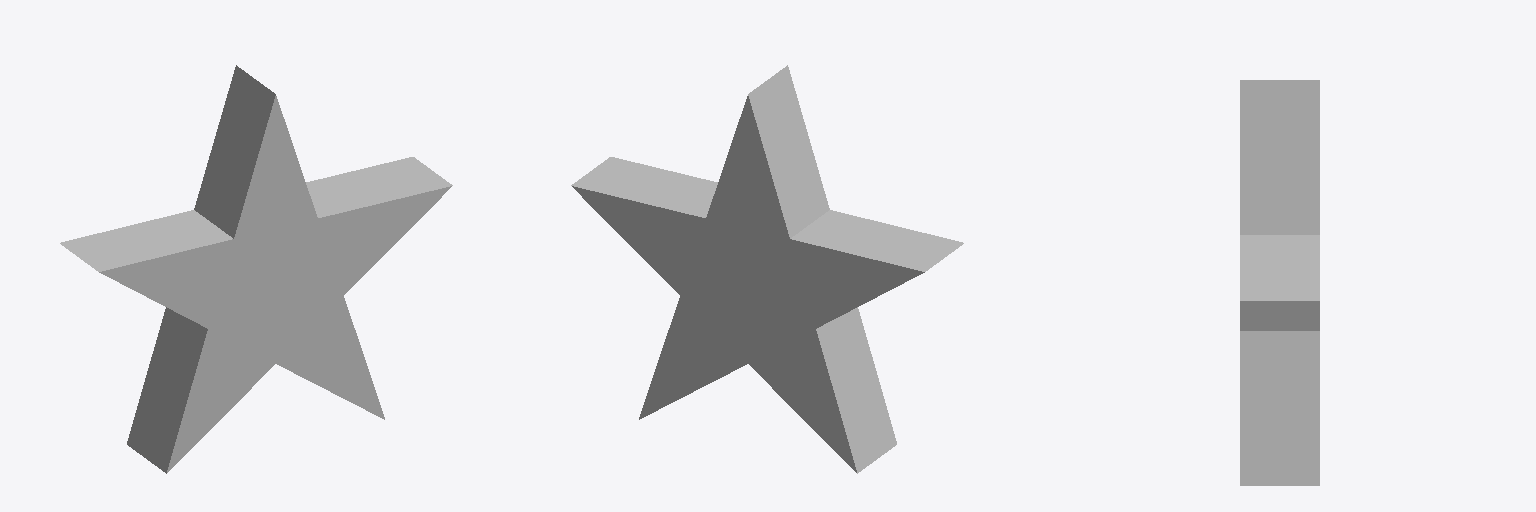
Rendered from star.obj.
3 views of the same model, side by side, from view 1: azimuth 30°, elevation 25°; view 2: azimuth 150°, elevation 25°; view 3: azimuth 270°, elevation 25° (orthographic).
Parts seen in each view (by area): view 1: Circle_Circle.001; view 2: Circle_Circle.001; view 3: Circle_Circle.001.
Boxes of the visible parts, <box> form: Circle_Circle.001: <box>60,65,452,473</box>; Circle_Circle.001: <box>571,65,963,473</box>; Circle_Circle.001: <box>1240,80,1319,485</box>.
Size of the model in its own units: 1.9 by 1.81 by 0.3712.